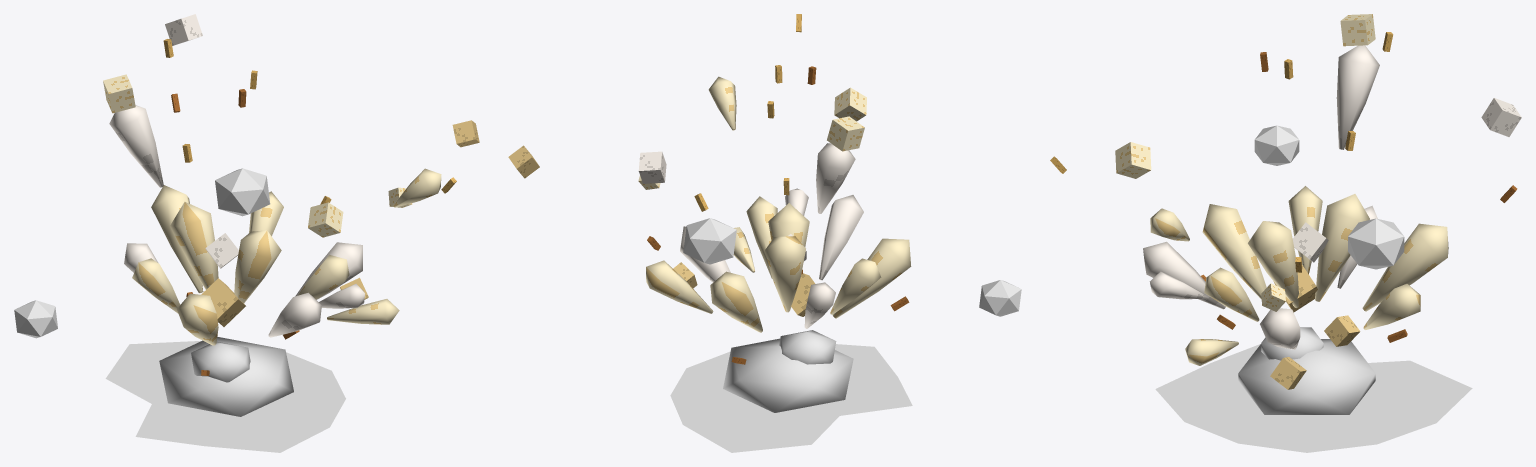
File: Vanilla Splat Burst.fbx
3 views of the same model, side by side, from view 1: azimuth 30°, elevation 25°; view 2: azimuth 150°, elevation 25°; view 3: azimuth 270°, elevation 25° (orthographic). The views are drawn at different scales.
Parts seen in each view (by area): view 1: Vanilla Splat Burst puddle, Vanilla Splat Burst core, Vanilla Splat Burst drop 2, Vanilla Splat Burst drop 0, Vanilla Splat Burst drop 5, Vanilla Splat Burst blob 1, Vanilla Splat Burst core top, Vanilla Splat Burst crown 2, Vanilla Splat Burst crown 5, Vanilla Splat Burst crown 6, Vanilla Splat Burst blob 0, Vanilla Splat Burst crown 4 (+13 smaller); view 2: Vanilla Splat Burst puddle, Vanilla Splat Burst core, Vanilla Splat Burst drop 2, Vanilla Splat Burst blob 1, Vanilla Splat Burst crown 2, Vanilla Splat Burst crown 6, Vanilla Splat Burst crown 5, Vanilla Splat Burst drop 0, Vanilla Splat Burst crown 1, Vanilla Splat Burst core top, Vanilla Splat Burst crown 4, Vanilla Splat Burst blob 0 (+11 smaller); view 3: Vanilla Splat Burst puddle, Vanilla Splat Burst core, Vanilla Splat Burst crown 2, Vanilla Splat Burst crown 5, Vanilla Splat Burst drop 0, Vanilla Splat Burst drop 2, Vanilla Splat Burst drop 5, Vanilla Splat Burst blob 1, Vanilla Splat Burst crown 6, Vanilla Splat Burst blob 0, Vanilla Splat Burst crown 7, Vanilla Splat Burst crown 1 (+14 smaller).
Boxes of the visible parts, x1,y1,x2,y2 form: Vanilla Splat Burst puddle: [105, 341, 345, 452]; Vanilla Splat Burst core: [159, 336, 293, 416]; Vanilla Splat Burst drop 2: [170, 202, 218, 289]; Vanilla Splat Burst drop 0: [109, 105, 163, 187]; Vanilla Splat Burst drop 5: [234, 230, 281, 303]; Vanilla Splat Burst blob 1: [215, 168, 270, 216]; Vanilla Splat Burst core top: [191, 342, 250, 382]; Vanilla Splat Burst crown 2: [151, 185, 203, 293]; Vanilla Splat Burst crown 5: [177, 293, 218, 345]; Vanilla Splat Burst crown 6: [268, 292, 321, 337]; Vanilla Splat Burst blob 0: [14, 300, 57, 338]; Vanilla Splat Burst crown 4: [132, 258, 180, 313]; Vanilla Splat Burst puddle: [670, 344, 912, 452]; Vanilla Splat Burst core: [723, 338, 853, 412]; Vanilla Splat Burst drop 2: [765, 236, 805, 312]; Vanilla Splat Burst blob 1: [683, 218, 736, 264]; Vanilla Splat Burst crown 2: [710, 271, 762, 332]; Vanilla Splat Burst crown 6: [819, 195, 863, 280]; Vanilla Splat Burst crown 5: [832, 238, 911, 318]; Vanilla Splat Burst drop 0: [816, 143, 855, 213]; Vanilla Splat Burst crown 1: [646, 260, 713, 313]; Vanilla Splat Burst core top: [779, 330, 836, 364]; Vanilla Splat Burst crown 4: [830, 258, 881, 314]; Vanilla Splat Burst blob 0: [979, 280, 1021, 316]; Vanilla Splat Burst puddle: [1155, 344, 1472, 452]; Vanilla Splat Burst core: [1238, 339, 1375, 414]; Vanilla Splat Burst crown 2: [1362, 223, 1448, 311]; Vanilla Splat Burst crown 5: [1202, 204, 1266, 299]; Vanilla Splat Burst drop 0: [1336, 45, 1379, 149]; Vanilla Splat Burst drop 2: [1315, 194, 1369, 301]; Vanilla Splat Burst drop 5: [1248, 221, 1299, 307]; Vanilla Splat Burst blob 1: [1348, 218, 1404, 269]; Vanilla Splat Burst crown 6: [1143, 241, 1225, 309]; Vanilla Splat Burst blob 0: [1254, 125, 1299, 165]; Vanilla Splat Burst crown 7: [1204, 267, 1259, 321]; Vanilla Splat Burst crown 1: [1363, 284, 1420, 329].
Size of the model in its own units: 0.8255 by 0.5468 by 0.643.
Materials: 8 (5 with a texture image).
